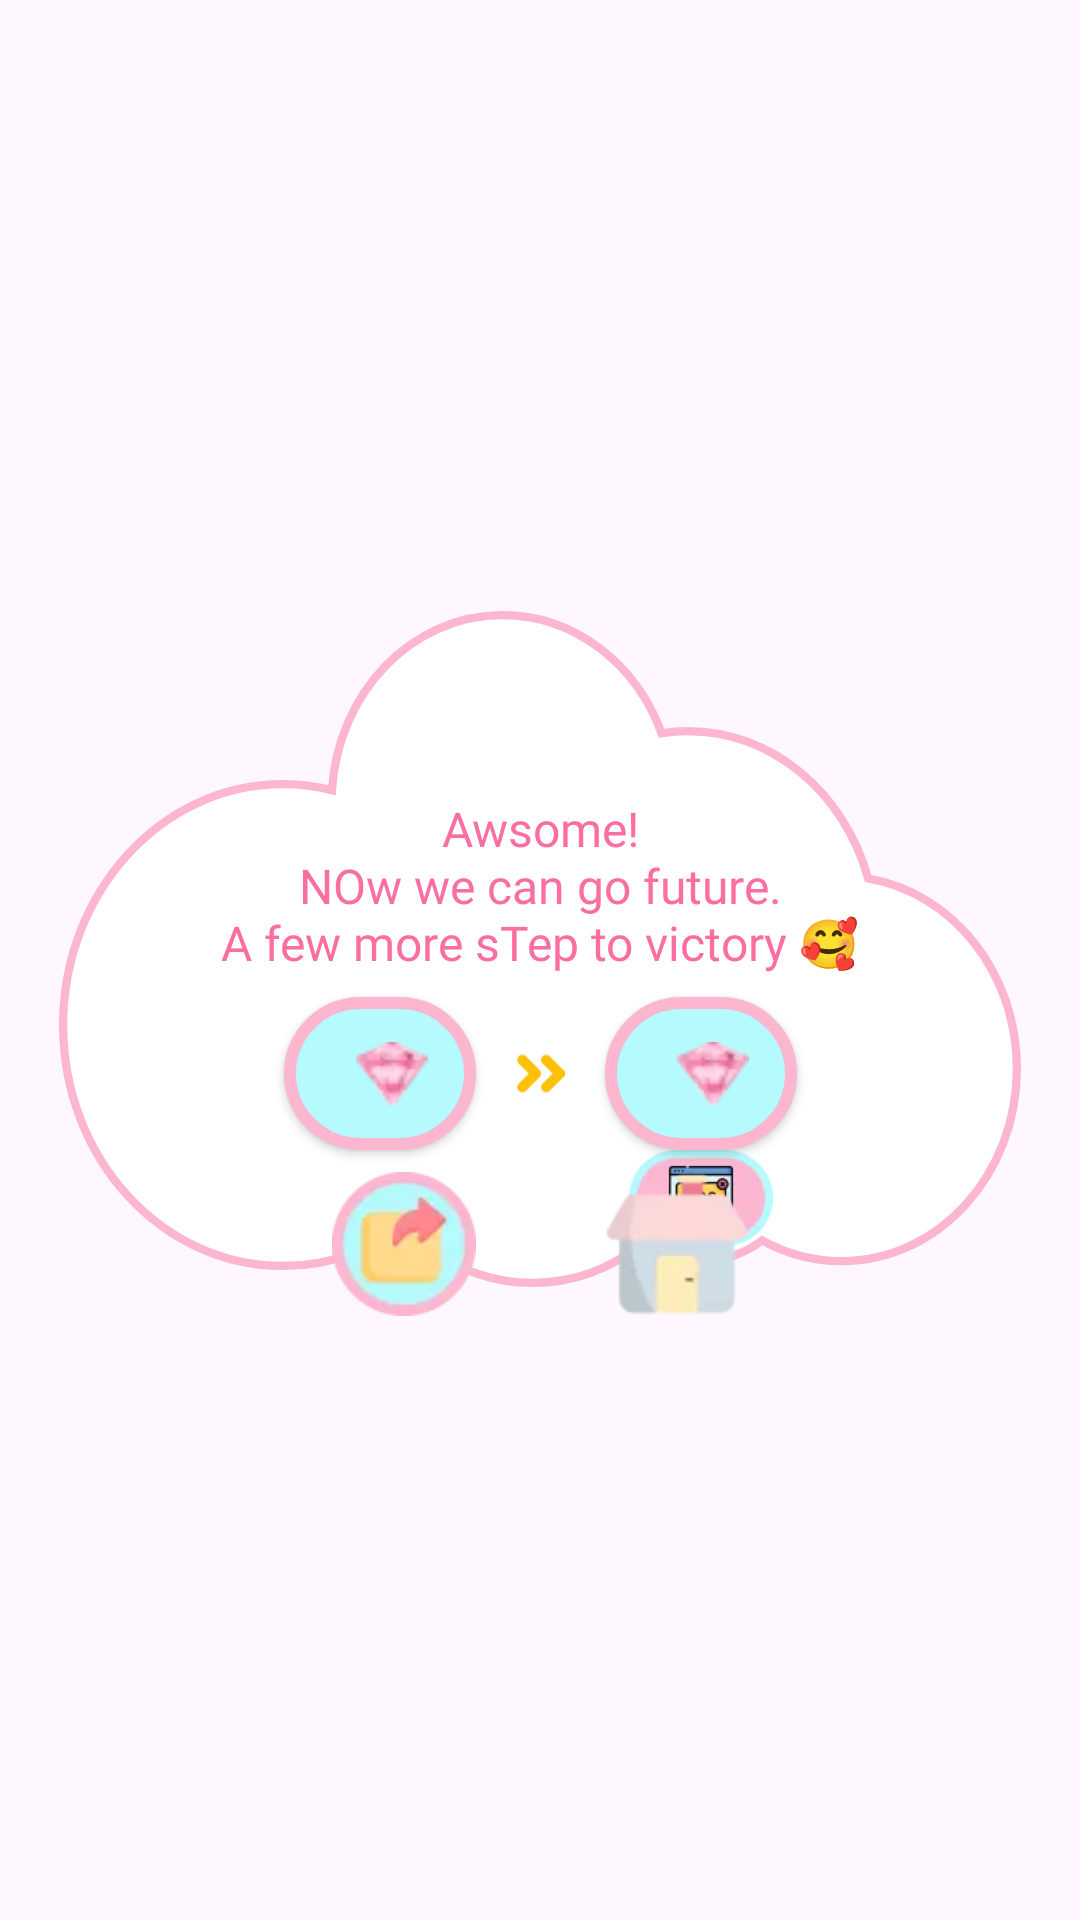

Screen size 1080w x 1920h. Icon name, then its box in pixels as (x1, y1, x2, y2):
double arrow: (517, 1054, 565, 1093)
share: (332, 1172, 476, 1316)
